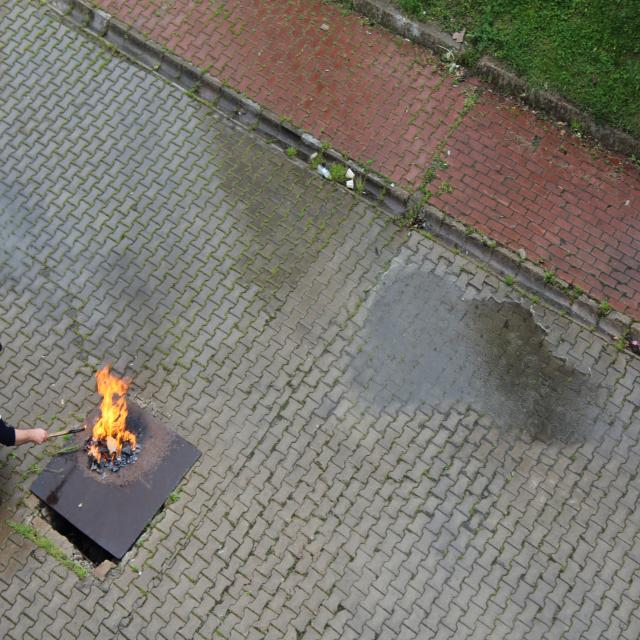fire: (84, 365, 138, 461)
